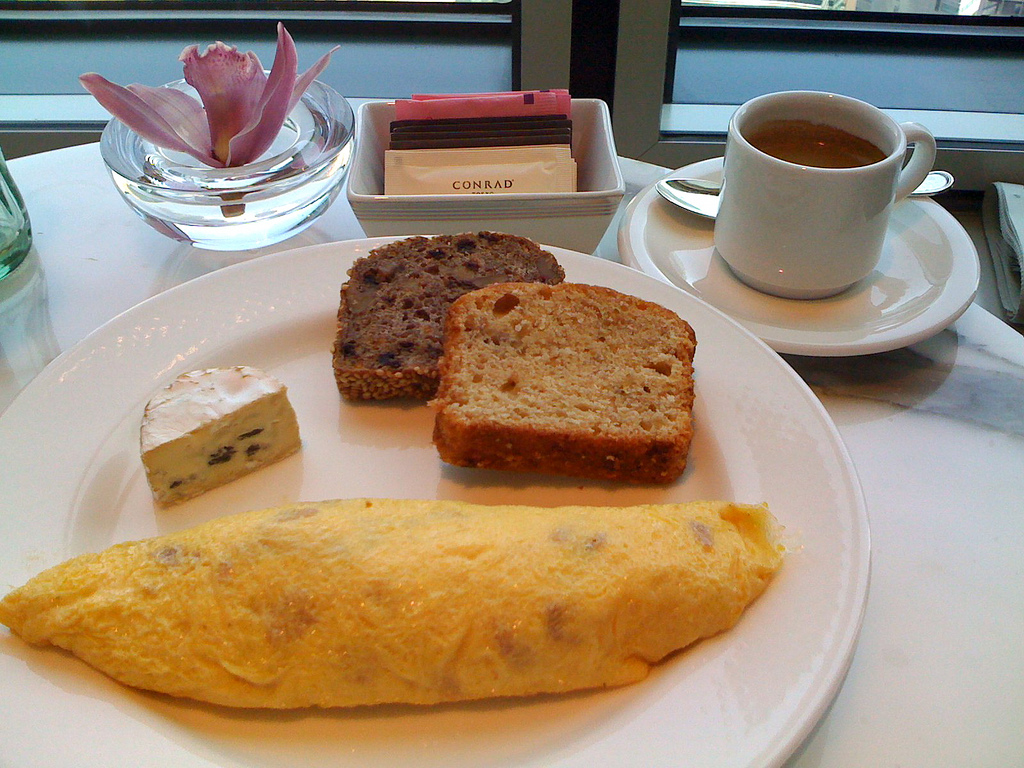slice of bread: (440, 281, 699, 466)
